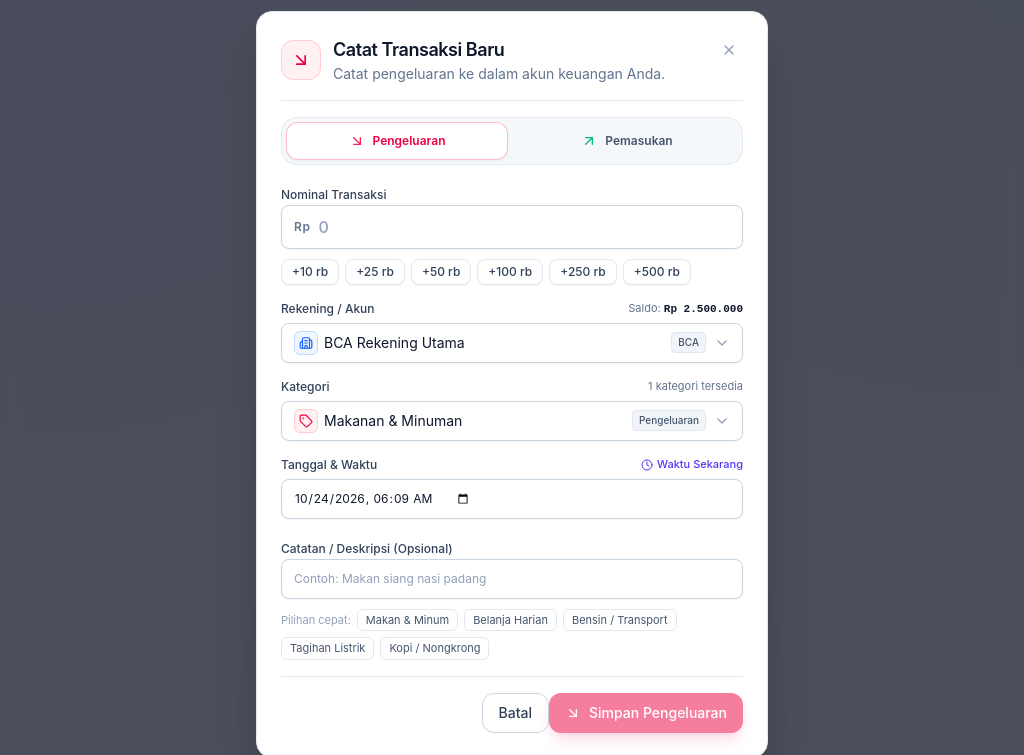
TransactionFormDialog › shows warning alert when expense amount exceeds account balance
// Select GoPay which only has 50.000 balance
Click the text "BCA Rekening Utama". click: point(394, 342)
box: [324,332,465,352]
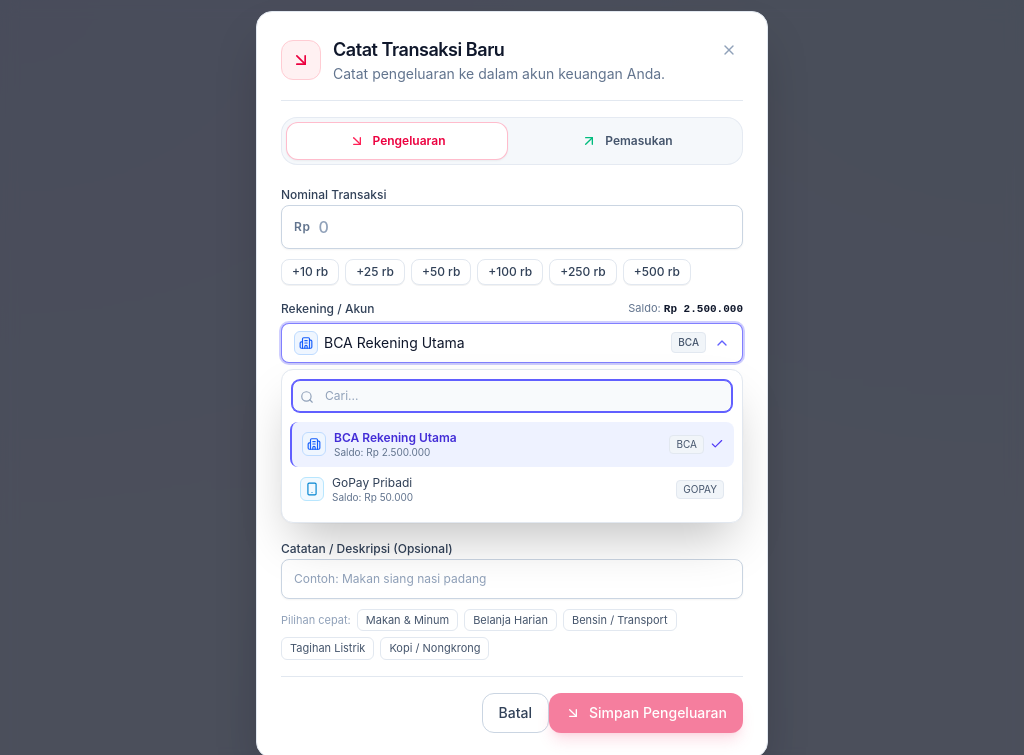
Click the text "GoPay Pribadi". click: point(373, 483)
box: [332,475,413,491]
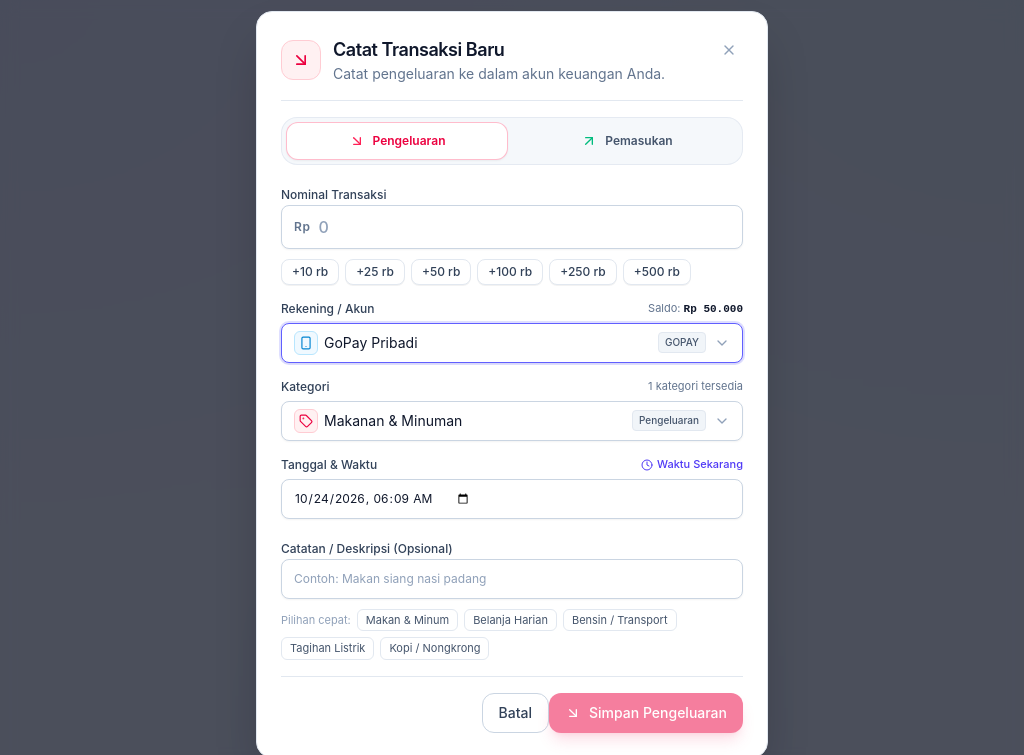
// Click +100 rb preset chip (exceeds 50.000)
Click the button "+100 rb". click: point(510, 272)
box: [477,258,543,284]
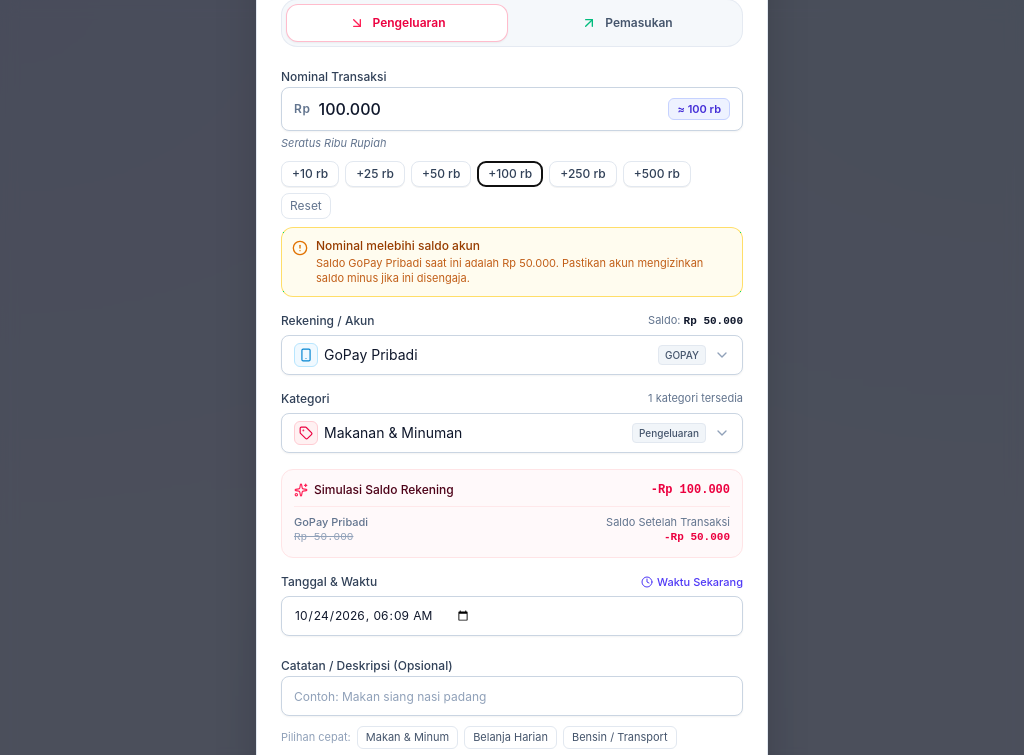
Result: the text "Nominal melebihi saldo akun" is shown at [316,238,480,253]
